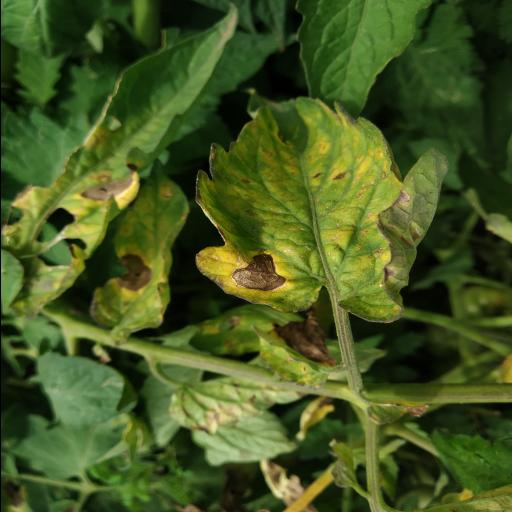Early Blight: (193, 98, 447, 314), (82, 158, 194, 338)
